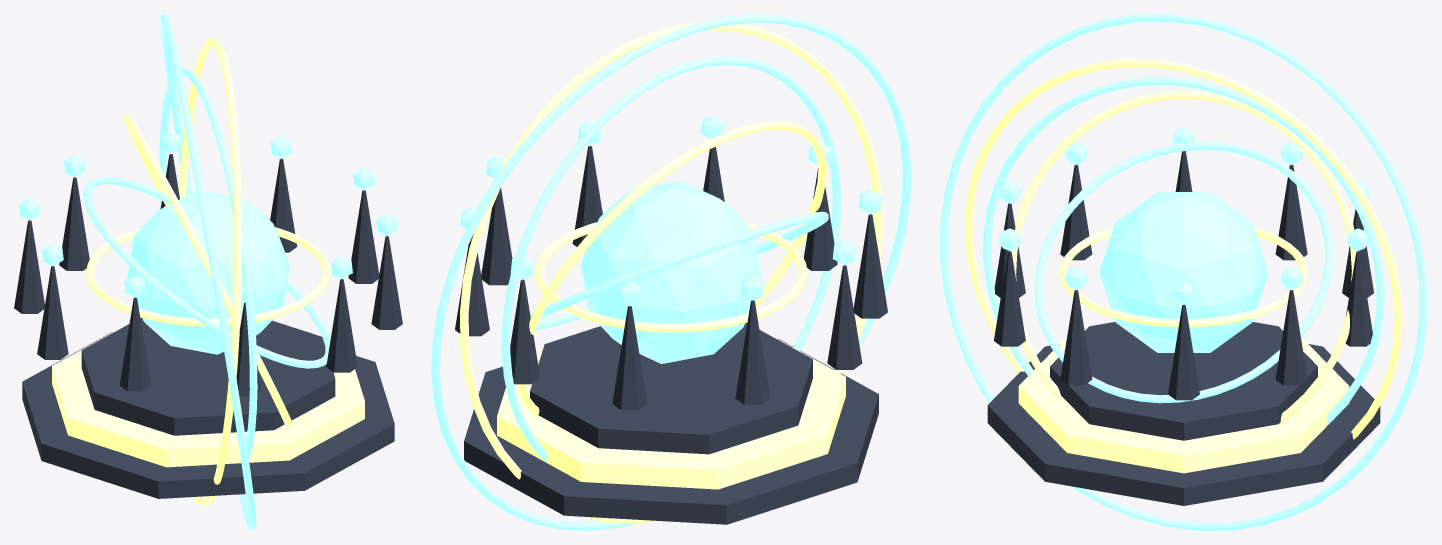
The model's file is gpu-blender-v5.glb.
The picture shows the model from 3 angles, left to right: view 1: azimuth 30°, elevation 25°; view 2: azimuth 150°, elevation 25°; view 3: azimuth 270°, elevation 25°; orthographic projection. The views are drawn at different scales.
Visible parts, largest first — view 1: Cylinder.002, Cylinder, SovereignCore_robots-txt-auditor, Cylinder.001, Torus.005, Torus.004, Torus.001, Torus.003, Torus, Torus.002, Cone.006, Cone.008 (+7 smaller); view 2: Cylinder.002, SovereignCore_robots-txt-auditor, Cylinder, Cylinder.001, Torus.005, Torus.003, Torus.004, Torus.002, Torus, Torus.001, Cone.003, Cone.004 (+8 smaller); view 3: SovereignCore_robots-txt-auditor, Cylinder.002, Cylinder, Cylinder.001, Torus.005, Torus.004, Torus.003, Torus.001, Torus.002, Torus, Cone, Cone.001 (+7 smaller).
Part boxes in pixels (box(x1,y1,x2,y2)): Cylinder.002: box(81, 317, 335, 435); Cylinder: box(22, 332, 394, 498); SovereignCore_robots-txt-auditor: box(127, 191, 289, 354); Cylinder.001: box(52, 324, 364, 467); Torus.005: box(160, 14, 256, 530); Torus.004: box(178, 38, 241, 506); Torus.001: box(83, 176, 330, 368); Torus.003: box(159, 68, 257, 458); Torus: box(86, 227, 330, 326); Torus.002: box(123, 114, 292, 425); Cone.006: box(119, 297, 150, 391); Cone.008: box(326, 279, 357, 372); Cylinder.002: box(530, 322, 812, 454); SovereignCore_robots-txt-auditor: box(581, 181, 761, 363); Cylinder: box(464, 339, 878, 524); Cylinder.001: box(497, 330, 845, 489); Torus.005: box(431, 14, 911, 530); Torus.003: box(501, 56, 841, 461); Torus.004: box(460, 22, 882, 523); Torus.002: box(517, 121, 826, 415); Torus: box(535, 222, 807, 332); Torus.001: box(530, 211, 828, 330); Cone.003: box(612, 306, 647, 410); Cone.004: box(735, 300, 770, 404); SovereignCore_robots-txt-auditor: box(1099, 192, 1268, 352); Cylinder.002: box(1050, 322, 1317, 440); Cylinder: box(987, 344, 1380, 505); Cylinder.001: box(1018, 336, 1349, 473); Torus.005: box(940, 14, 1427, 530); Torus.004: box(965, 59, 1402, 439); Torus.003: box(983, 77, 1384, 423); Torus.001: box(1034, 141, 1333, 403); Torus.002: box(1010, 90, 1357, 423); Torus: box(1059, 227, 1308, 327); Cone: box(1168, 304, 1199, 400); Cone.001: box(1275, 290, 1307, 385).
Bounding box in the file's own units: 4.41 × 5.93 × 5.46.
